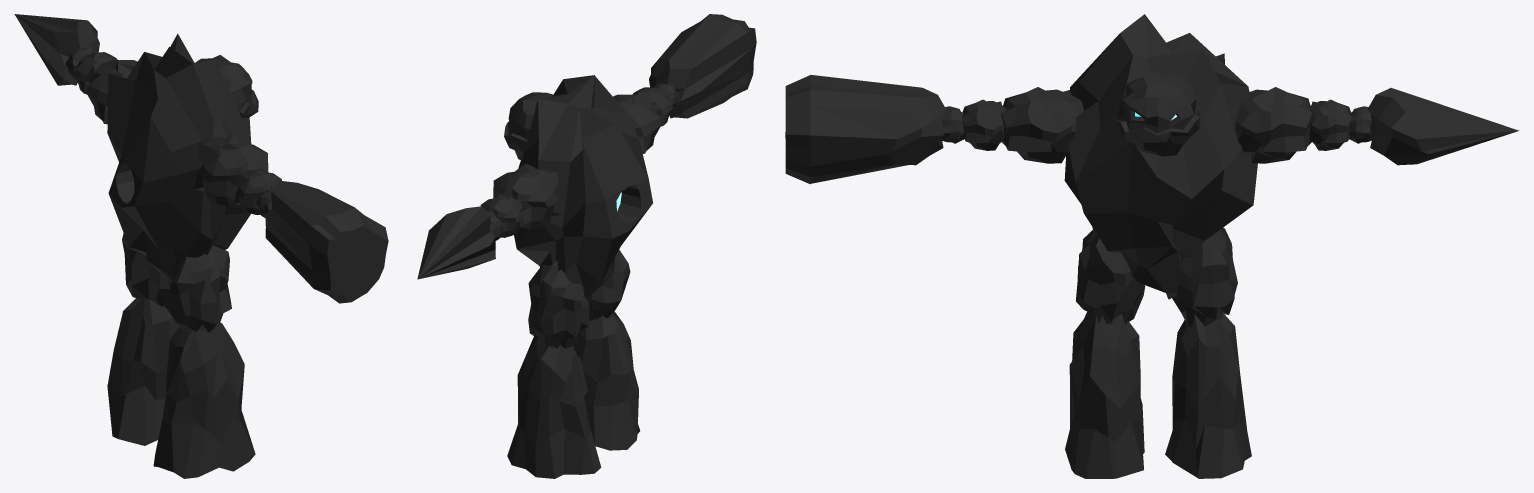
The model's file is Golem.fbx.
3 renders of one model, left to right at view 1: azimuth 30°, elevation 25°; view 2: azimuth 150°, elevation 25°; view 3: azimuth 270°, elevation 25°, orthographic. The views are drawn at different scales.
Visible parts, largest first — view 1: Roundcube.011, Roundcube.001, Roundcube.007, Roundcube; view 2: Roundcube.011, Roundcube.001, Roundcube.007, Roundcube; view 3: Roundcube.007, Roundcube.001, Roundcube.011, Roundcube.
Part boxes in pixels (left/top/right/bottom): Roundcube.011: left=107, top=233, right=255, bottom=478; Roundcube.001: left=107, top=33, right=251, bottom=287; Roundcube.007: left=14, top=14, right=388, bottom=303; Roundcube: left=195, top=55, right=258, bottom=118; Roundcube.011: left=507, top=249, right=639, bottom=478; Roundcube.001: left=514, top=75, right=652, bottom=297; Roundcube.007: left=417, top=14, right=756, bottom=279; Roundcube: left=504, top=92, right=552, bottom=160; Roundcube.007: left=785, top=75, right=1519, bottom=184; Roundcube.001: left=1064, top=14, right=1257, bottom=299; Roundcube.011: left=1065, top=227, right=1251, bottom=478; Roundcube: left=1114, top=72, right=1199, bottom=156.
Size of the model in its own units: 2055 by 5809 by 8786.
